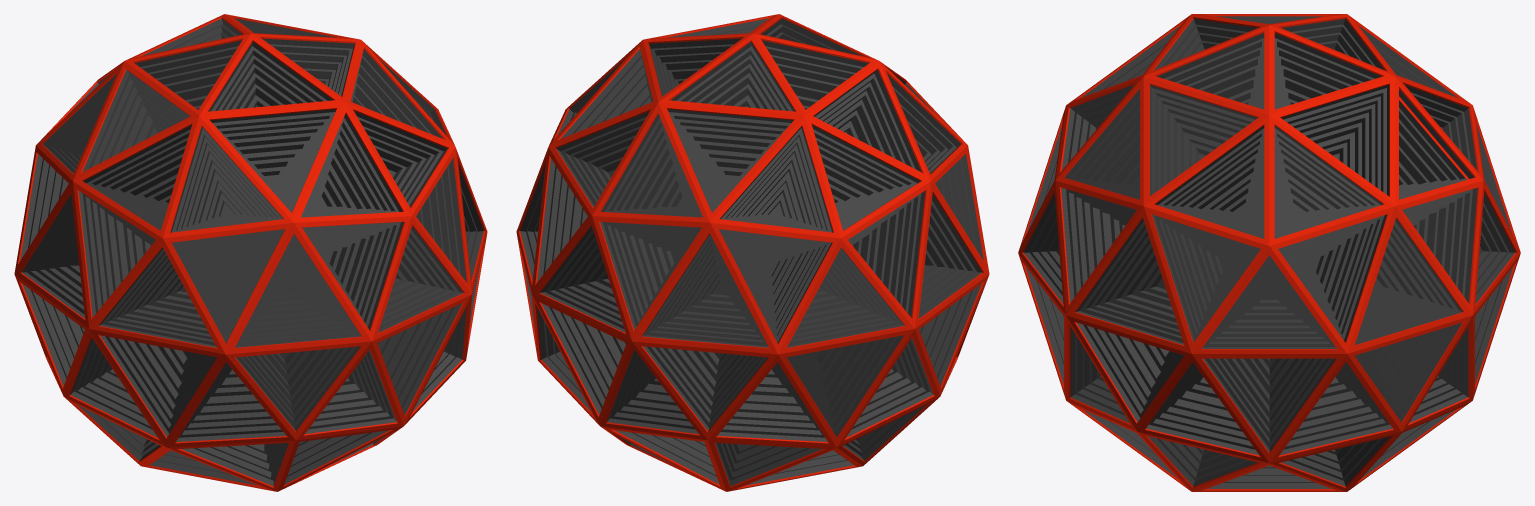
The picture shows the model from 3 angles, left to right: view 1: azimuth 30°, elevation 25°; view 2: azimuth 150°, elevation 25°; view 3: azimuth 270°, elevation 25°; orthographic projection. The views are drawn at different scales.
Parts seen in each view (by area): view 1: Inner, Outer; view 2: Inner, Outer; view 3: Inner, Outer.
Part boxes in pixels (<box>): Inner: <box>20,18,483,486</box>; Outer: <box>14,14,487,491</box>; Inner: <box>520,18,983,486</box>; Outer: <box>516,14,989,491</box>; Inner: <box>1023,16,1515,488</box>; Outer: <box>1018,14,1520,491</box>.
Bounding box in the file's own units: 1.92 × 2.01 × 2.01.
